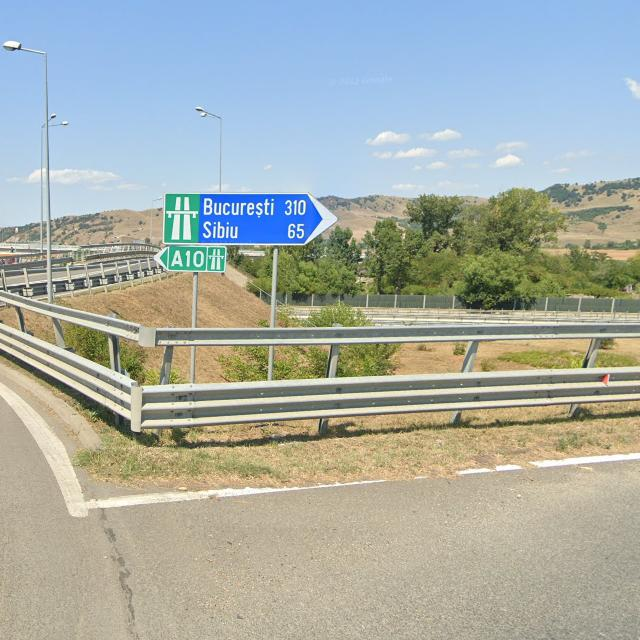info_highway: (162, 193, 199, 244), (206, 247, 226, 271)
